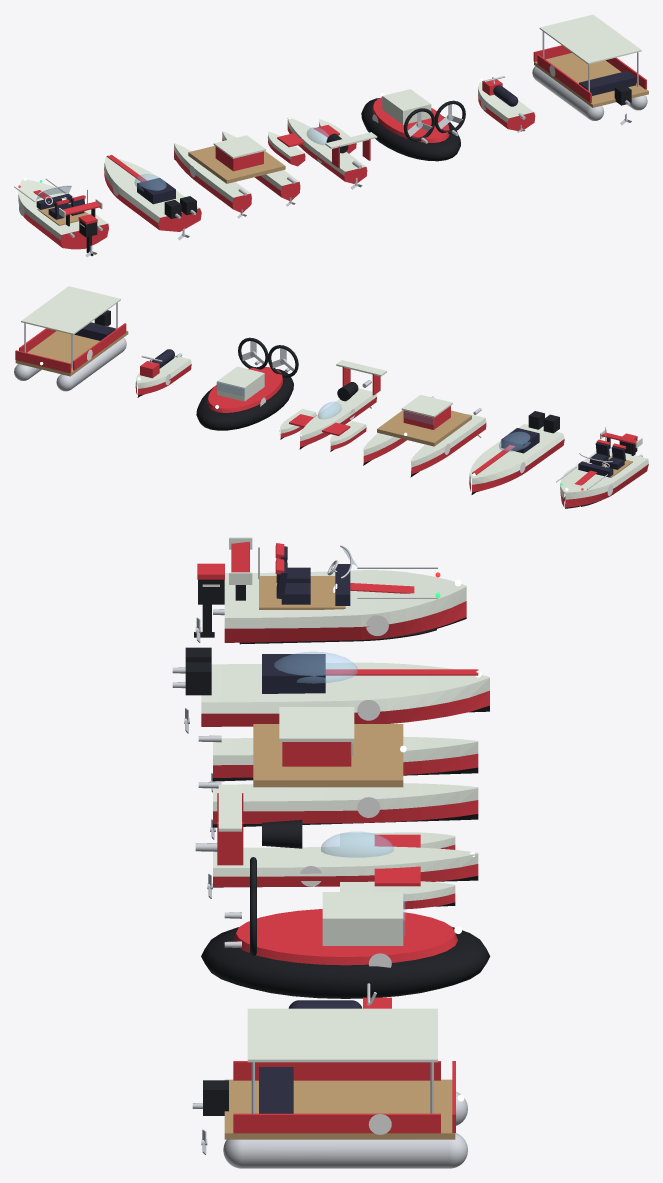
Rendered from boats.glb.
3 views of the same model, one above another, from view 1: azimuth 30°, elevation 25°; view 2: azimuth 150°, elevation 25°; view 3: azimuth 270°, elevation 25° (orthographic). The views are drawn at different scales.
Visible parts, largest first — view 1: Hull_Deck (×3), Bimini_Top, Skirt, Party_Deck, Bridge_Deck, Deck, Hover_Cabin, Hover_Deck, Pontoon_Tube, Hull_Transom (×2), Couch, Cockpit (+9 smaller); view 2: Hull_Deck (×3), Bimini_Top, Hull (×5), Skirt, Party_Deck, Bridge_Deck, Hover_Deck, Hover_Cabin, Deck, Pontoon_Tube, Pontoon (×2), Cabin_Roof (+11 smaller); view 3: Hull_Deck (×2), Bimini_Top, Hull (×4), Skirt, Pontoon (×4), Party_Deck, Rail_Side (×2), Pontoon_Tube, Hover_Deck, Bridge_Deck, Deck, Hover_Cabin (+16 smaller).
Boxes of the visible parts, x1,y1,x2,y2 form: Hull_Deck (×3): (104,82,533,217); Bimini_Top: (539,14,641,64); Skirt: (361,98,460,161); Party_Deck: (534,53,648,107); Bridge_Deck: (188,146,285,183); Deck: (18,179,107,234); Hover_Cabin: (382,89,431,124); Hover_Deck: (372,97,449,142); Pontoon_Tube: (532,66,604,120); Hull_Transom (×2): (158,112,535,231); Couch: (579,71,636,95); Cockpit: (137,178,175,204); Hull_Deck (×3): (136,355,562,478); Bimini_Top: (21,286,120,334); Hull (×5): (135,364,564,492); Skirt: (196,369,293,430); Party_Deck: (15,322,128,376); Bridge_Deck: (377,410,471,446); Hover_Deck: (207,367,282,412); Hover_Cabin: (217,366,264,401); Deck: (560,449,647,492); Pontoon_Tube: (56,337,126,391); Pontoon (×2): (411,418,486,474); Cabin_Roof: (401,394,452,417); Hull_Deck (×2): (201,662,489,867); Bimini_Top: (247,1008,437,1062); Hull (×4): (201,678,489,887); Skirt: (201,927,490,998); Pontoon (×4): (213,742,478,824); Party_Deck: (224,1079,455,1139); Rail_Side (×2): (233,1061,440,1133); Pontoon_Tube: (223,1133,467,1168); Hover_Deck: (233,909,457,965); Bridge_Deck: (253,724,403,787); Deck: (224,570,466,617); Hover_Cabin: (322,892,403,945).
Bounding box in the file's own units: 23.12 × 2.33 × 5.51.
